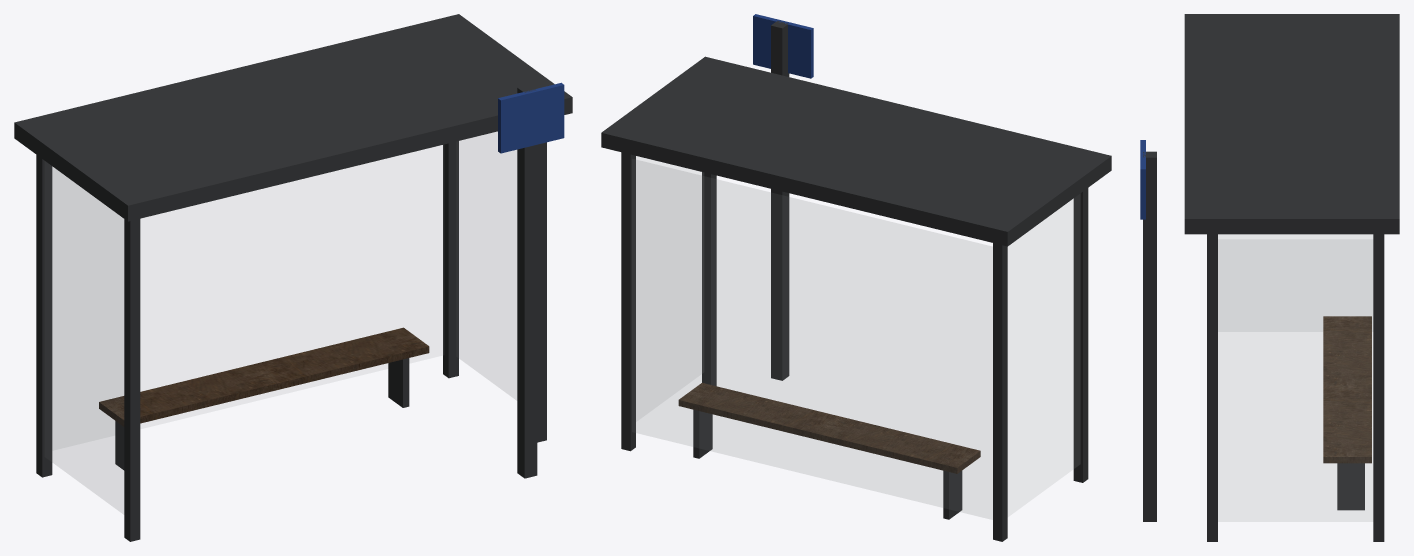
File: prop_bus_stop.gltf
The picture shows the model from 3 angles, left to right: view 1: azimuth 30°, elevation 25°; view 2: azimuth 150°, elevation 25°; view 3: azimuth 270°, elevation 25°; orthographic projection. The views are drawn at different scales.
Parts seen in each view (by area): view 1: prop_bus_stop; view 2: prop_bus_stop; view 3: prop_bus_stop.
Boxes of the visible parts, x1,y1,x2,y2 form: prop_bus_stop: (14,14,572,541); prop_bus_stop: (601,14,1111,541); prop_bus_stop: (1140,14,1399,541).
Size of what is drawn, in the model's own units: 3.5 by 2.9 by 1.87.
Materials: 4 (1 with a texture image).
